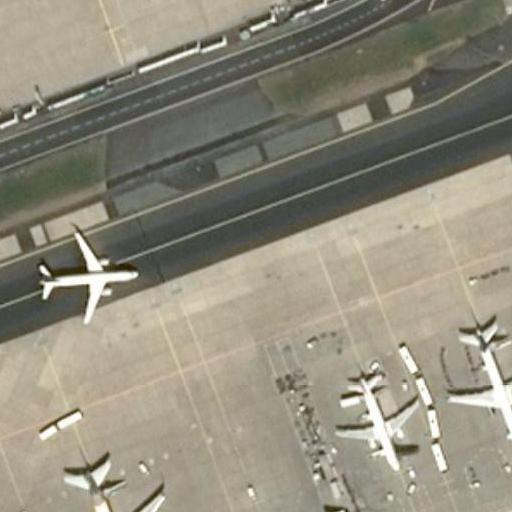Aircraft: (327, 368, 425, 481), (29, 224, 138, 325), (26, 229, 138, 326), (444, 323, 512, 464), (329, 370, 420, 473), (446, 320, 512, 460), (42, 460, 167, 512), (44, 460, 169, 512)
